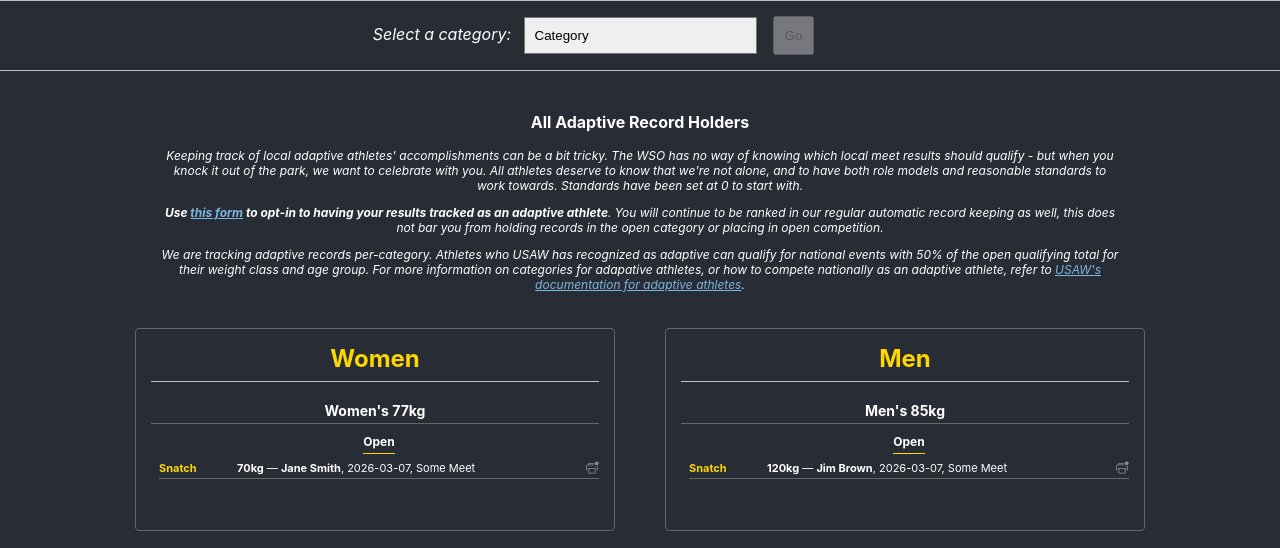
Test: AdaptiveRecords (user-based) › choosing a category and pressing Go loads that category sheet
The width and height of the screenshot is (1280, 548).
Select "Visual Impairment" in the dropdown named "Category" at {"x": 640, "y": 36}, box [524,17,756,54]
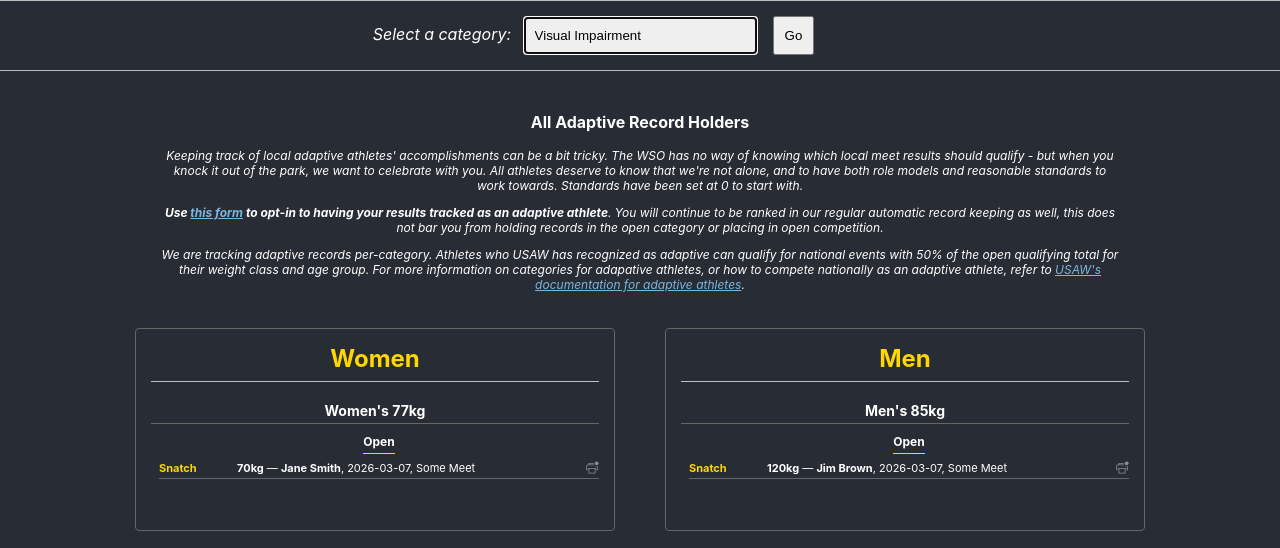
Click the button "Go".
click(793, 36)  # box [772,16,814,55]
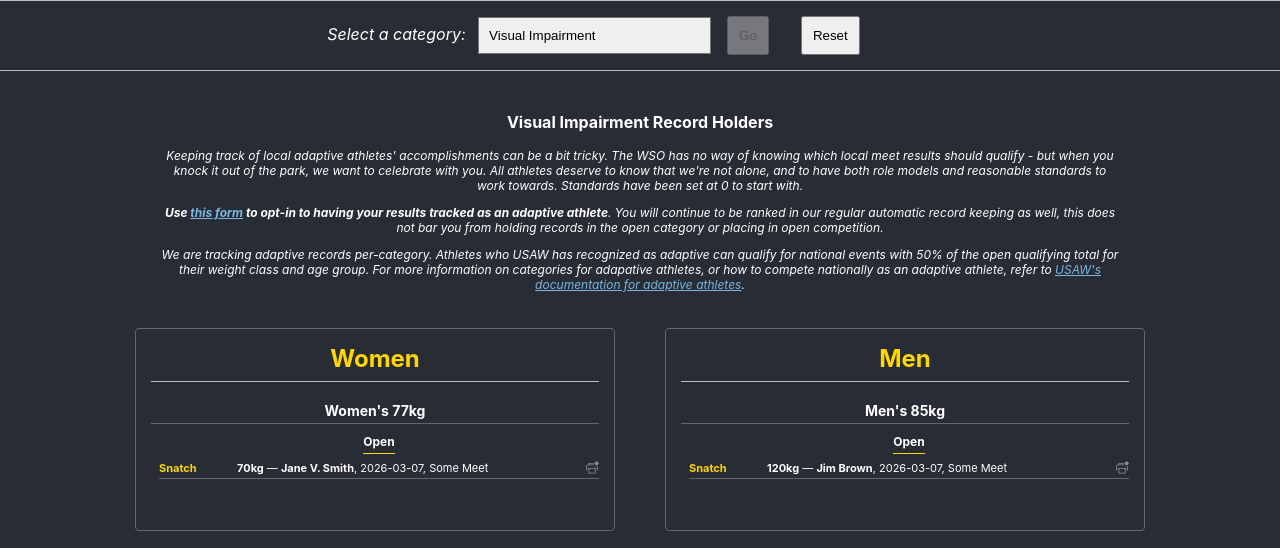
Now the text "Jane V. Smith" is shown, box [281,461,354,475]
Now the text "Visual Impairment Record Holders" is shown, box [507,112,773,132]
